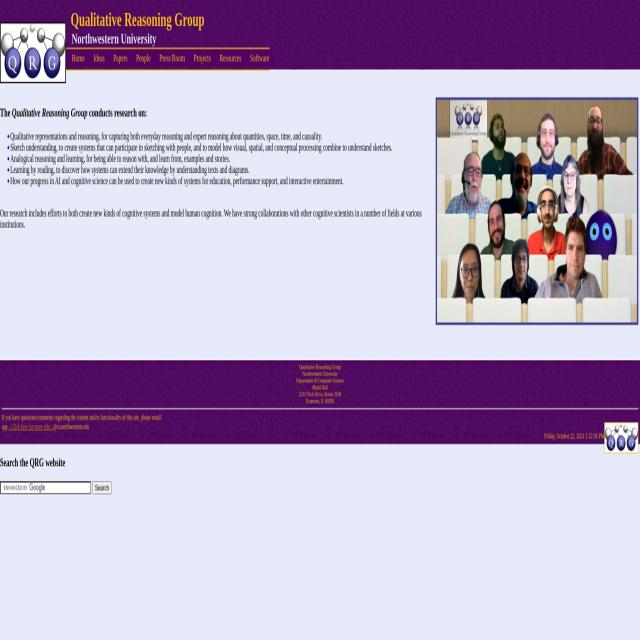button: (0, 22, 66, 83), (155, 50, 189, 66), (215, 50, 245, 66), (246, 50, 274, 66), (190, 50, 216, 66), (109, 50, 132, 66), (67, 50, 89, 66), (132, 50, 154, 66), (89, 50, 109, 66), (92, 481, 112, 494)
field: (0, 481, 91, 494)
